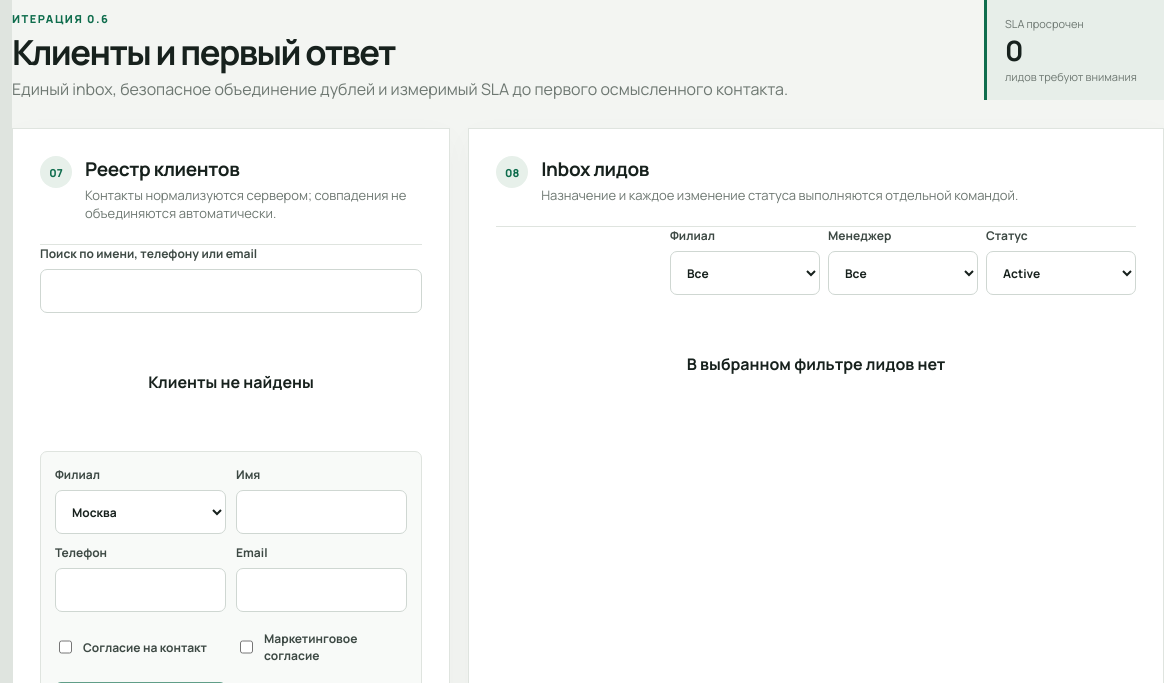
it: CrmWorkspace › warns about duplicate contacts and requires an explicit merge action
Type "Иван Петров" into the field named "Имя клиента". click: point(322, 512)
box: [236,490,407,534]
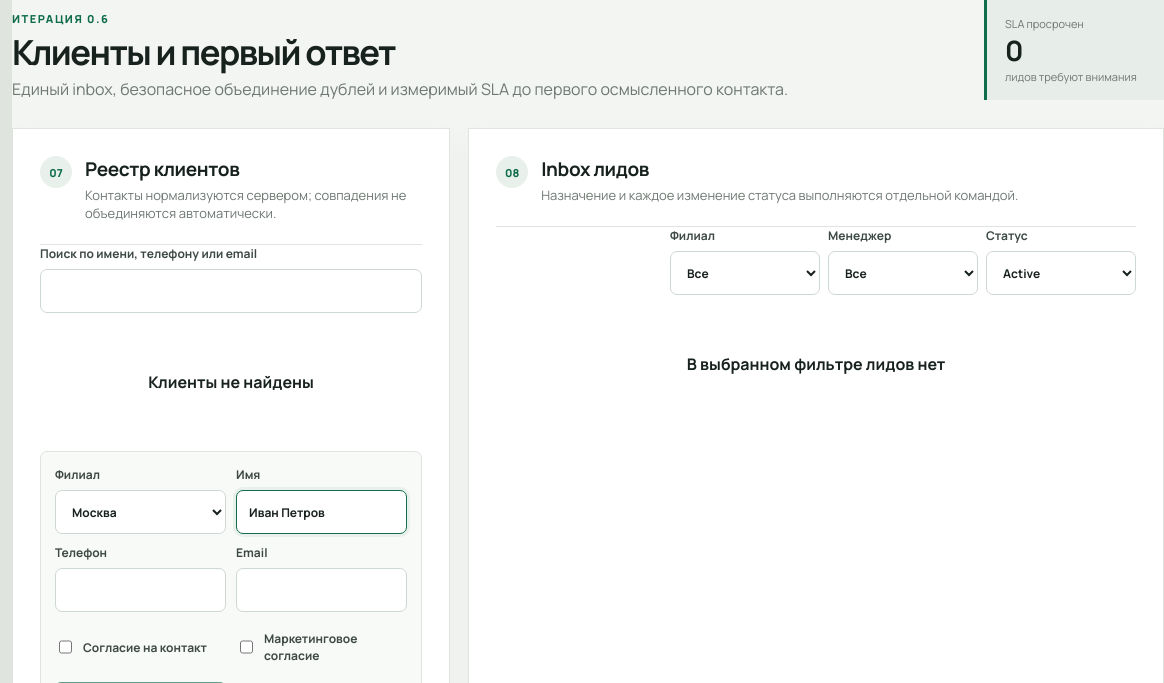
Type "8 999 123-45-67" into the field named "Телефон клиента". click: point(141, 590)
box: [55,568,226,612]
(page scrolled)
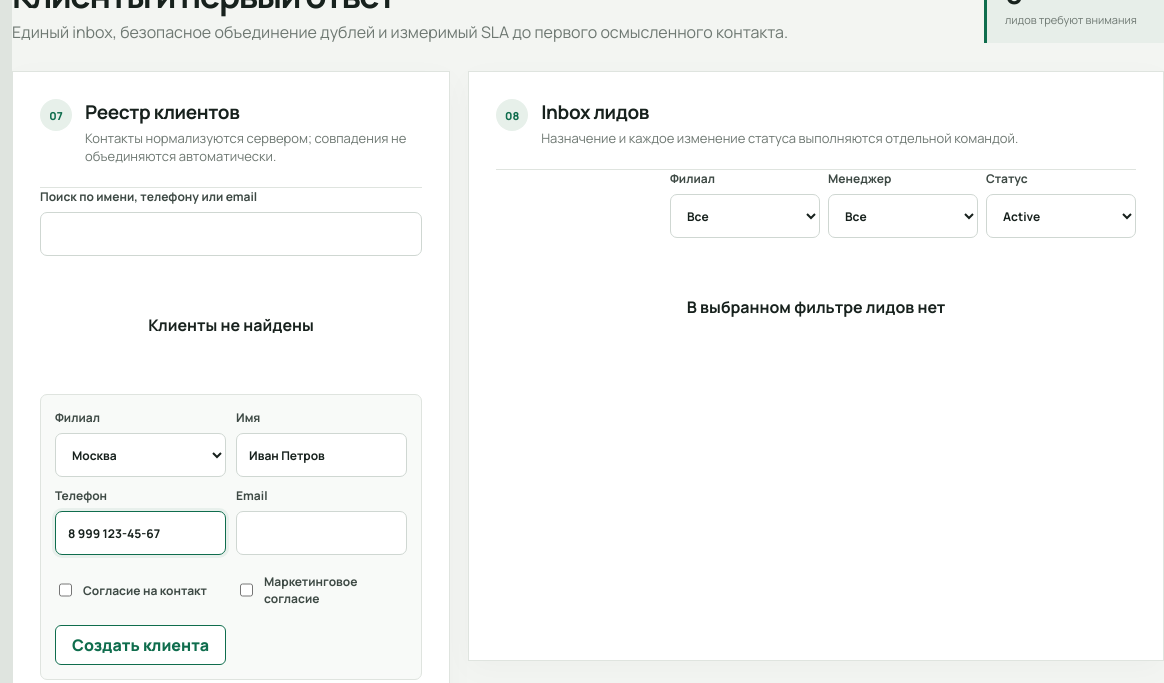
Click the button "Создать клиента". click: point(141, 645)
box: [55,625,226,665]
(page scrolled)
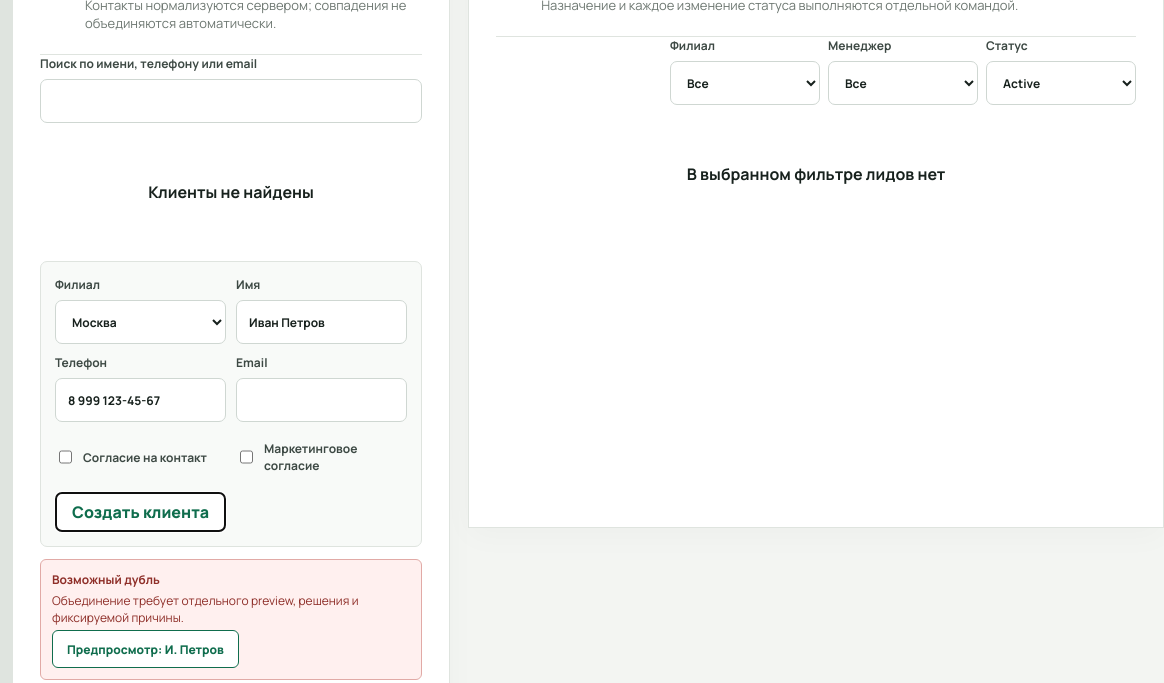
Result: the text "Возможный дубль" is shown at [52,571,160,588]
Click the button "Предпросмотр: И. Петров". click: point(145, 649)
box: [52,630,239,668]
(page scrolled)
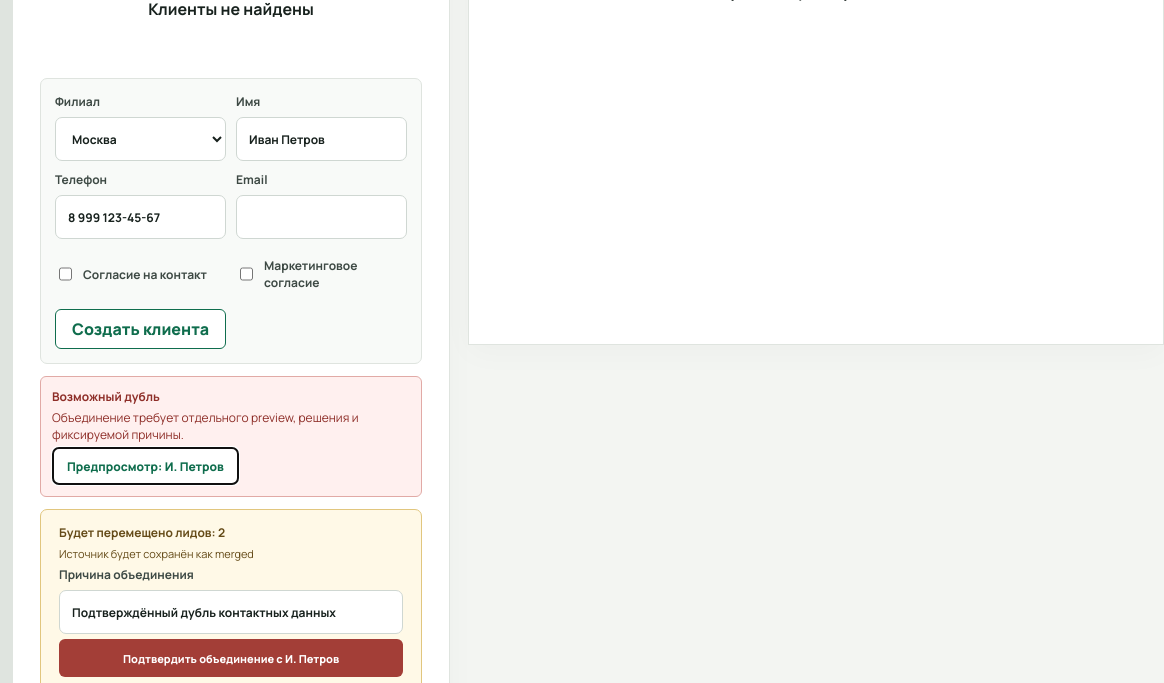
Result: the text "Будет перемещено лидов: 2" is shown at [59,524,225,541]
